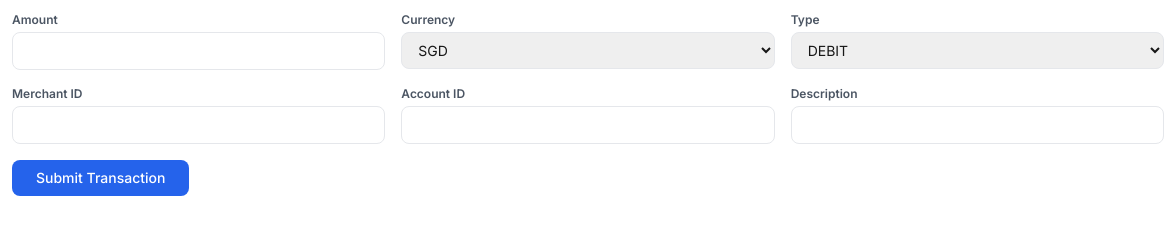
TransactionForm › shows validation error when merchant ID is missing
// Get all number inputs — amount is first
Step 1. Type "100" into the number field → (199, 51), box 12,32 -> 385,70
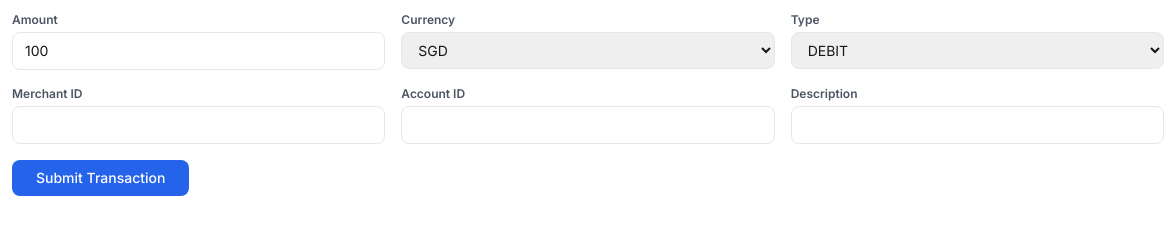
Step 2. Click the button "Submit Transaction" → (101, 178), box 12,160 -> 189,196
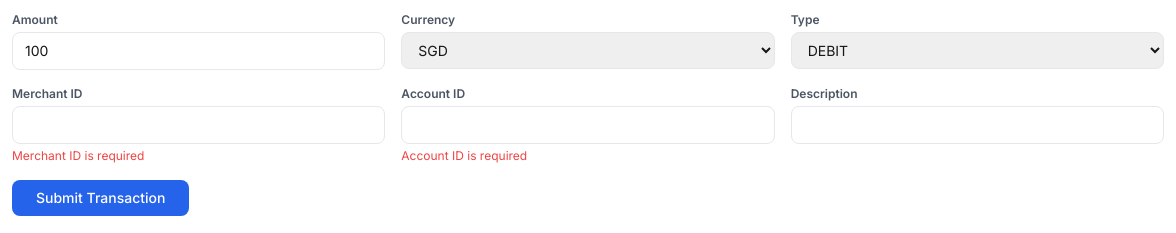
Result: the text "Merchant ID is required" is shown at 12,148 -> 144,163
